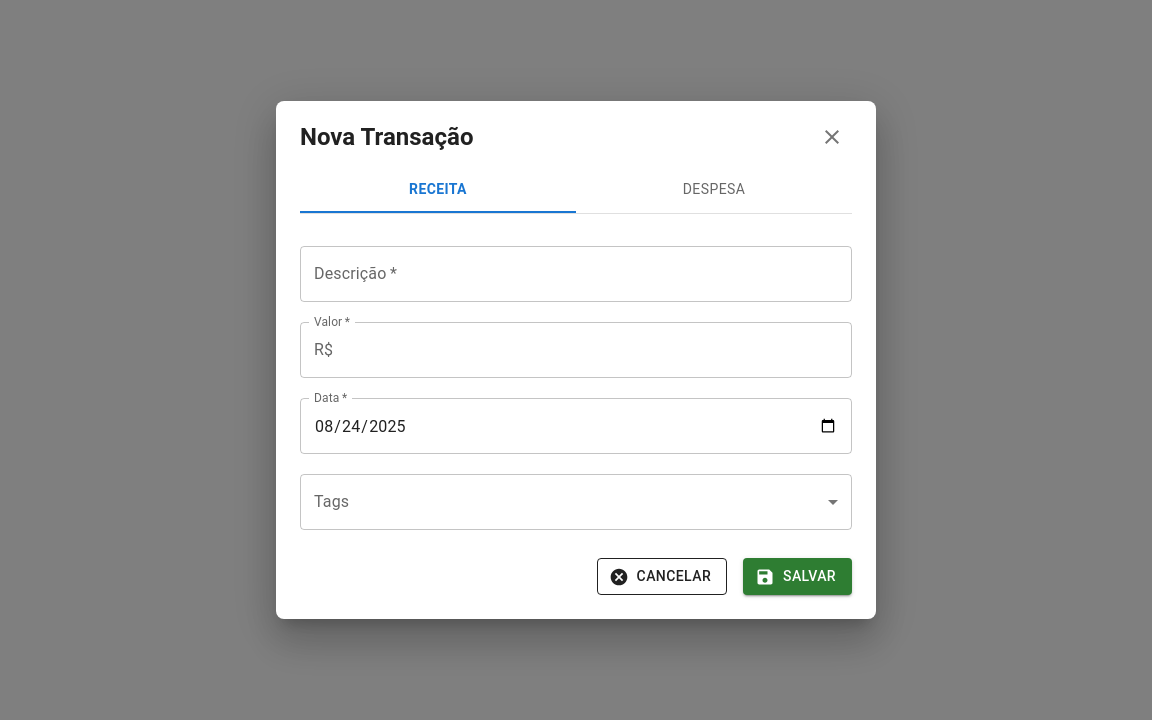
CadastroTransacaoModal › deve formatar valor monetário corretamente
Digitar valor
Type "12345" into the field labelled "Valor *".
click(597, 350); type("12345")  # box x1=341 y1=322 x2=852 y2=378
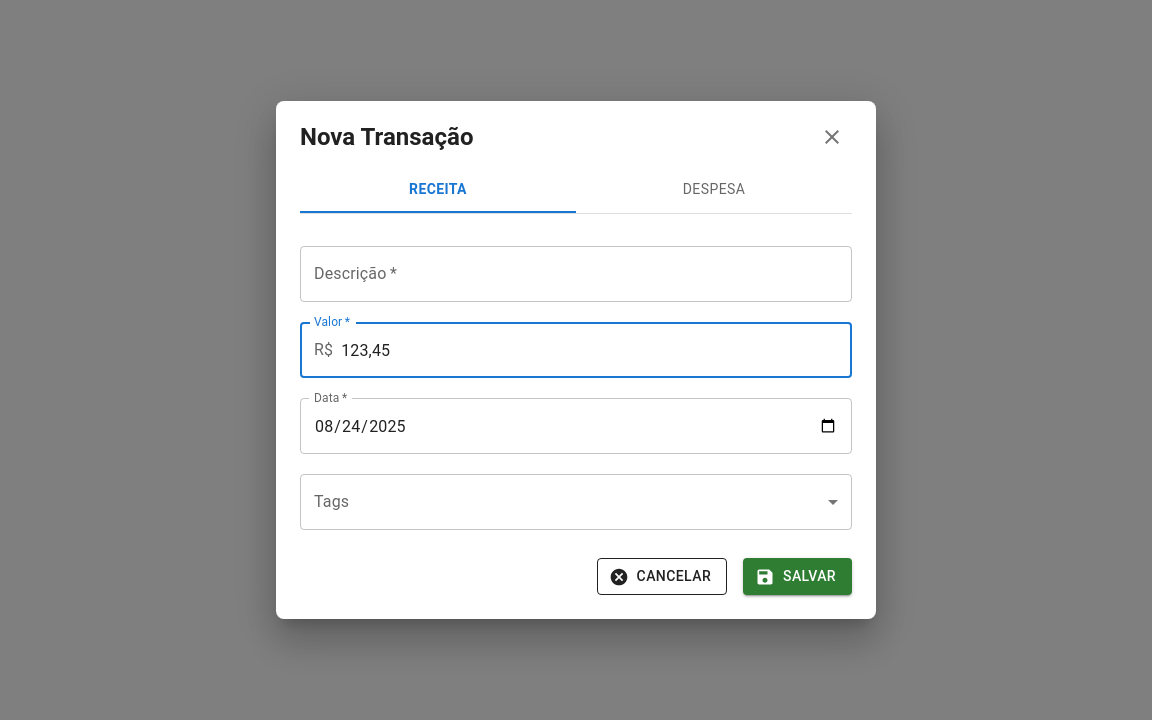
expect the field labelled "Valor *" holds "123,45": met, box x1=341 y1=322 x2=852 y2=378
